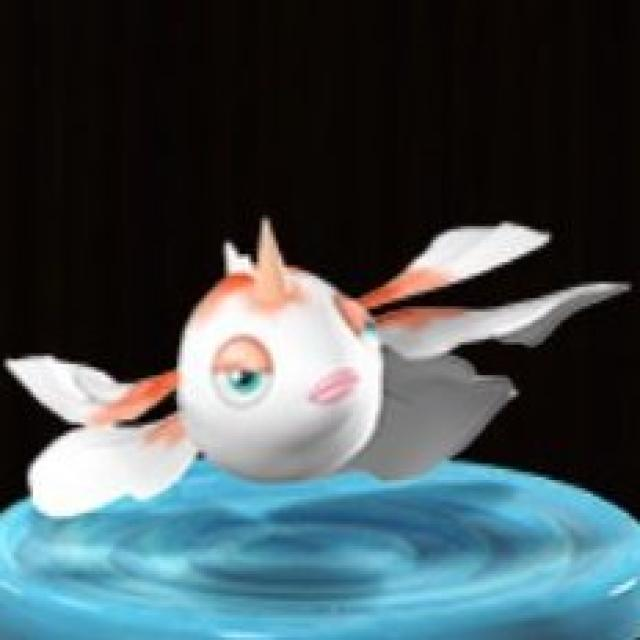Goldeen: (103, 217, 458, 494)
